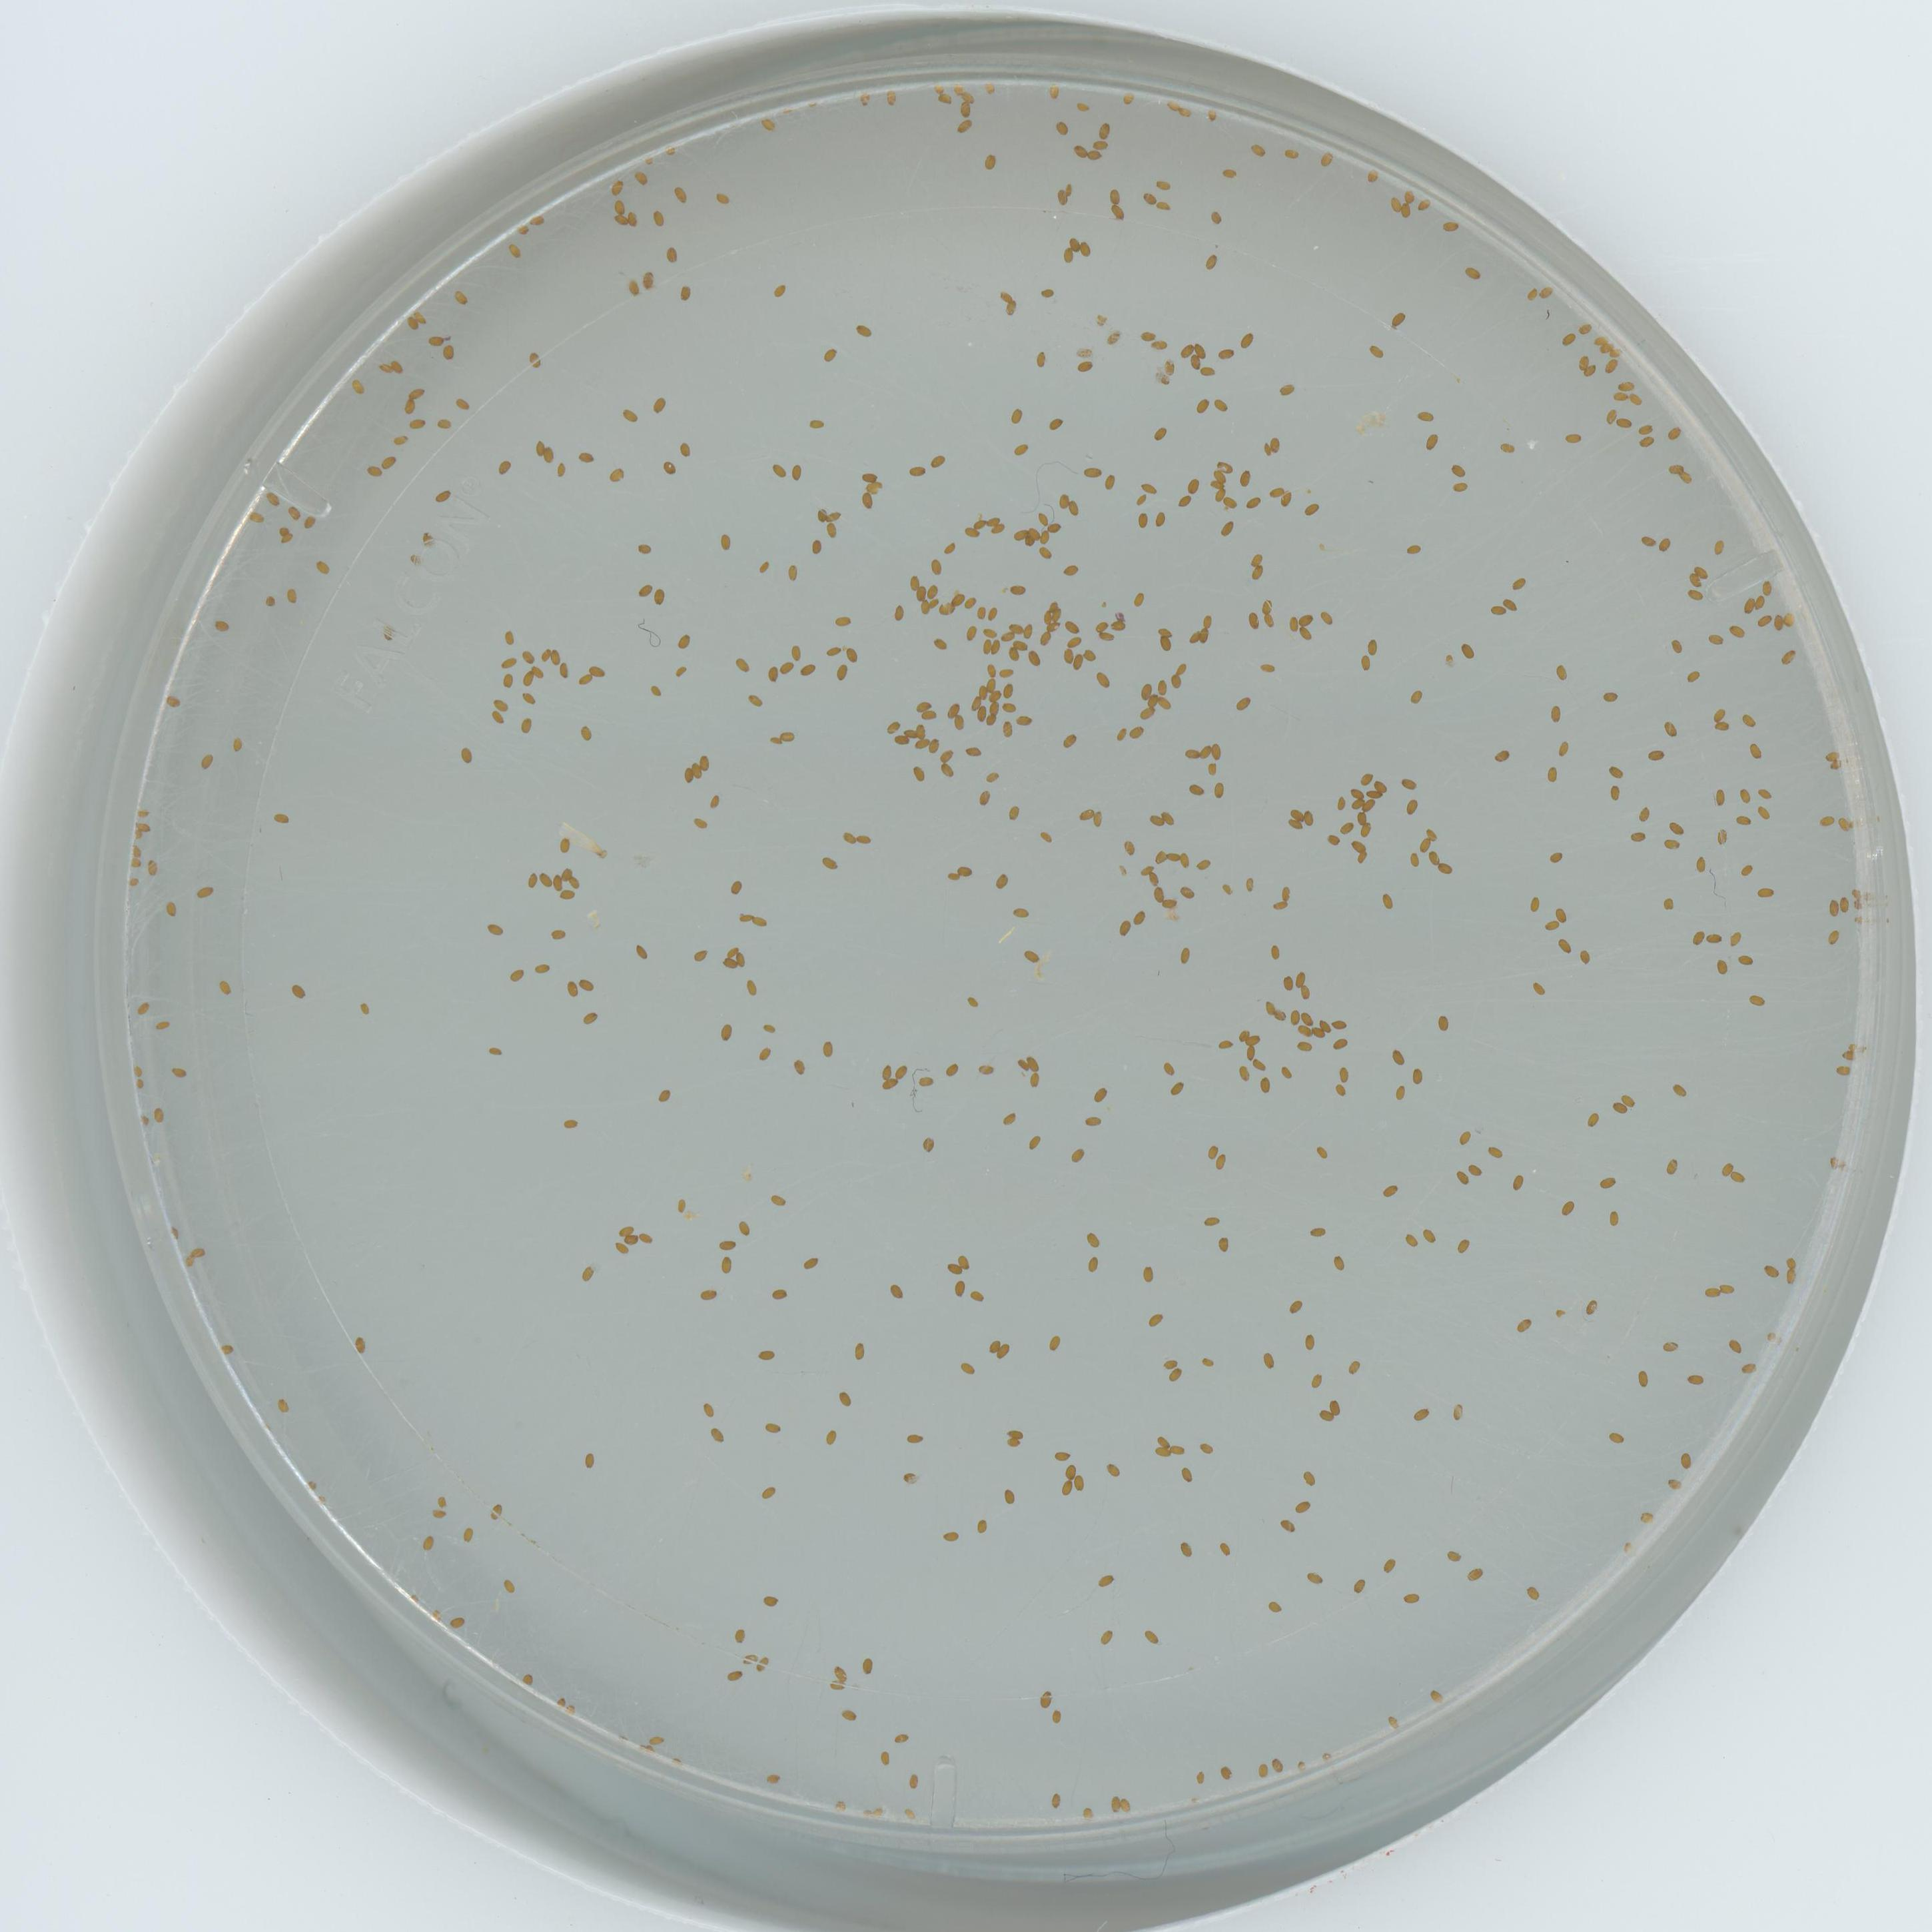seed: (626, 278, 642, 303), (925, 557, 945, 577), (419, 529, 437, 550), (1729, 621, 1748, 639), (1546, 706, 1566, 724), (955, 1359, 975, 1376), (755, 115, 777, 131), (154, 1017, 175, 1033), (911, 764, 929, 782), (285, 504, 303, 522), (856, 320, 874, 338), (663, 244, 681, 262), (851, 1341, 869, 1359), (918, 1070, 936, 1088), (858, 1656, 876, 1674), (1422, 432, 1440, 449), (1237, 331, 1254, 349), (1348, 837, 1366, 855), (1217, 520, 1235, 538), (1663, 720, 1681, 738), (1557, 936, 1575, 954), (1152, 510, 1169, 527), (1184, 476, 1201, 494), (1403, 798, 1421, 816), (1065, 633, 1083, 651), (1780, 648, 1798, 665), (1408, 1065, 1426, 1083), (1203, 1212, 1221, 1230), (1412, 1403, 1430, 1421), (1293, 1497, 1311, 1514), (1097, 1628, 1115, 1645), (1559, 1200, 1576, 1217), (1663, 1159, 1681, 1177), (1421, 1224, 1438, 1242), (1514, 1315, 1532, 1332), (1214, 1235, 1231, 1253), (1001, 1488, 1019, 1506), (1083, 1230, 1100, 1247), (1382, 1180, 1399, 1198), (1467, 1159, 1484, 1177), (633, 170, 651, 188), (651, 589, 671, 605), (1060, 617, 1079, 633), (1757, 885, 1776, 901), (1491, 748, 1511, 764), (1711, 791, 1730, 807), (1108, 617, 1127, 633), (1713, 959, 1732, 975), (1836, 814, 1852, 833), (660, 142, 679, 157), (642, 269, 655, 294), (510, 242, 524, 264), (1033, 830, 1054, 844), (163, 899, 177, 920), (577, 448, 594, 464), (844, 648, 862, 663), (499, 653, 517, 669), (520, 690, 538, 706), (648, 683, 665, 699), (501, 630, 518, 646), (929, 453, 947, 469), (771, 281, 789, 297), (835, 663, 851, 681), (458, 747, 474, 764), (823, 345, 840, 361), (718, 533, 734, 550), (518, 718, 536, 734), (915, 697, 932, 713), (577, 725, 594, 741), (518, 671, 536, 686), (927, 736, 943, 754), (823, 855, 839, 872), (609, 467, 626, 483), (492, 695, 510, 711), (729, 879, 747, 895), (826, 642, 844, 658), (800, 662, 817, 678), (487, 920, 504, 936), (787, 464, 805, 479), (198, 754, 216, 770), (520, 648, 538, 663), (407, 416, 425, 432), (747, 692, 764, 708), (809, 538, 826, 554), (734, 658, 752, 674), (676, 283, 694, 299), (441, 345, 458, 361), (281, 587, 299, 603), (752, 913, 770, 929), (311, 559, 329, 575), (672, 188, 690, 203), (955, 119, 973, 134), (736, 1219, 754, 1235), (701, 1284, 718, 1300), (803, 1254, 821, 1270), (759, 1346, 777, 1362), (709, 1426, 725, 1444), (582, 1007, 598, 1024), (793, 1056, 809, 1074), (839, 1389, 855, 1407), (764, 1419, 782, 1435), (821, 1042, 839, 1058), (832, 1665, 849, 1681), (878, 1750, 893, 1767), (718, 1024, 734, 1042), (1012, 904, 1030, 920), (1502, 596, 1520, 612), (1302, 499, 1320, 515), (1668, 821, 1686, 837), (1083, 464, 1100, 479), (1527, 895, 1543, 913), (1378, 893, 1396, 909), (1177, 885, 1194, 901), (1755, 807, 1773, 823), (1389, 310, 1407, 326), (1449, 462, 1467, 478), (1555, 741, 1573, 757), (1237, 469, 1253, 487), (1637, 807, 1654, 823), (1104, 186, 1122, 202), (1437, 862, 1454, 878), (998, 665, 1016, 681), (1014, 713, 1031, 729), (1060, 732, 1077, 748), (1024, 651, 1042, 667), (1706, 929, 1723, 945), (1138, 327, 1155, 343), (1401, 775, 1417, 793), (1244, 612, 1260, 630), (1739, 863, 1757, 879), (1010, 580, 1026, 598), (1012, 441, 1030, 456), (1203, 253, 1219, 271), (1244, 494, 1261, 510), (1046, 414, 1063, 430), (1058, 248, 1074, 265), (1663, 837, 1681, 853), (1560, 331, 1578, 347), (1458, 642, 1476, 658), (1737, 950, 1755, 966), (1240, 878, 1258, 893), (1318, 609, 1334, 626), (1543, 766, 1560, 782), (1175, 494, 1192, 510), (1543, 918, 1560, 934), (1629, 828, 1647, 844), (1606, 786, 1624, 801), (1155, 623, 1173, 639), (1277, 492, 1295, 508), (1093, 671, 1111, 686), (1407, 853, 1422, 870), (1023, 950, 1040, 966), (1093, 124, 1111, 140), (1210, 782, 1228, 798), (1564, 428, 1582, 444), (1077, 357, 1093, 375), (1265, 483, 1283, 499), (1031, 350, 1049, 366), (1154, 177, 1171, 193), (1553, 663, 1571, 679), (1603, 359, 1621, 375), (1035, 632, 1053, 648), (1198, 628, 1214, 646), (1727, 931, 1744, 947), (1826, 929, 1842, 947), (1108, 203, 1125, 219), (1606, 1208, 1624, 1224), (1453, 1169, 1470, 1185), (1509, 1175, 1527, 1191), (1764, 1261, 1782, 1277), (1688, 1371, 1706, 1387), (1141, 1628, 1159, 1644), (1486, 1143, 1504, 1159), (1392, 1083, 1410, 1099), (1139, 1265, 1157, 1281), (1435, 1014, 1453, 1030), (1256, 1076, 1272, 1093), (1403, 1231, 1421, 1247), (1313, 1141, 1330, 1157), (1454, 1237, 1472, 1253), (1085, 1113, 1102, 1129), (1177, 1467, 1194, 1483), (1286, 1297, 1304, 1313), (1727, 1336, 1743, 1353), (1168, 1079, 1185, 1095), (996, 1341, 1014, 1357), (1028, 1134, 1044, 1152), (1449, 1403, 1467, 1419), (1389, 1047, 1407, 1063), (1672, 1079, 1688, 1097), (1599, 1173, 1617, 1189), (1035, 1691, 1053, 1707), (1621, 1090, 1638, 1106), (977, 1062, 994, 1077), (1104, 329, 1122, 345), (349, 380, 366, 396), (715, 189, 731, 207), (133, 1001, 150, 1017), (764, 1769, 782, 1785), (1667, 1476, 1684, 1491), (741, 1651, 759, 1667), (410, 550, 426, 568), (426, 333, 444, 349), (823, 524, 842, 538), (391, 356, 405, 375), (212, 619, 232, 633), (975, 702, 987, 724), (865, 483, 886, 495), (888, 718, 904, 734), (909, 462, 925, 478), (764, 667, 780, 683), (789, 646, 805, 662), (637, 582, 653, 598), (662, 458, 678, 474), (860, 492, 876, 508), (676, 633, 692, 649), (589, 662, 605, 678), (892, 605, 908, 621), (858, 830, 874, 846), (771, 462, 787, 478), (380, 453, 396, 469), (623, 407, 639, 423), (435, 416, 451, 432), (786, 564, 801, 580), (941, 540, 957, 556), (610, 196, 626, 212), (497, 458, 513, 474), (653, 396, 669, 412), (950, 715, 966, 731), (810, 414, 826, 430), (556, 837, 571, 853), (651, 211, 667, 226), (678, 441, 694, 456), (524, 872, 540, 888), (906, 573, 922, 589), (488, 711, 504, 727), (694, 947, 709, 962), (557, 663, 573, 679), (501, 674, 517, 690), (755, 559, 771, 575), (550, 925, 566, 941), (610, 179, 626, 195), (272, 810, 288, 826), (301, 513, 317, 529), (913, 586, 929, 602), (559, 867, 575, 883), (143, 860, 159, 876), (196, 885, 212, 901), (740, 909, 755, 925), (755, 1046, 771, 1062), (718, 1256, 734, 1272), (908, 1430, 924, 1445), (352, 1336, 368, 1352), (771, 1189, 787, 1205), (888, 1284, 904, 1300), (170, 1063, 186, 1079), (950, 1279, 966, 1295), (771, 1284, 787, 1300), (727, 1667, 743, 1683), (943, 1527, 959, 1543), (460, 1527, 476, 1543), (920, 1136, 936, 1152), (763, 1592, 778, 1608), (563, 1115, 579, 1131), (745, 980, 761, 996), (501, 1578, 517, 1594), (902, 1468, 918, 1484), (1649, 747, 1665, 763), (1368, 341, 1384, 357), (984, 770, 1000, 786), (1070, 143, 1086, 159), (1638, 421, 1654, 437), (1741, 713, 1757, 729), (1686, 669, 1702, 685), (1005, 803, 1021, 819), (1546, 849, 1562, 865), (1511, 575, 1527, 591), (1617, 414, 1633, 430), (1177, 948, 1192, 964), (1748, 743, 1764, 759), (1152, 425, 1168, 441), (1576, 948, 1592, 964), (1219, 345, 1235, 361), (993, 874, 1008, 890), (1083, 648, 1099, 663), (1194, 856, 1210, 872), (1364, 639, 1380, 655), (1233, 695, 1249, 711), (1693, 856, 1709, 872), (1053, 119, 1069, 134), (1277, 380, 1293, 396), (1299, 610, 1315, 626), (1077, 807, 1093, 823), (1212, 396, 1228, 412), (1247, 550, 1263, 566), (1008, 407, 1024, 423), (1417, 407, 1433, 423), (977, 789, 993, 805), (1690, 929, 1706, 945), (1037, 545, 1053, 561), (1115, 920, 1131, 936), (1131, 909, 1146, 925), (1357, 655, 1373, 671), (1424, 851, 1440, 867), (982, 154, 998, 170), (1670, 639, 1686, 655), (1608, 764, 1624, 780), (1077, 241, 1093, 257), (1297, 626, 1313, 642), (1249, 566, 1265, 582), (1150, 888, 1166, 904), (1092, 617, 1108, 633), (1166, 674, 1182, 690), (1100, 474, 1116, 490), (1753, 594, 1769, 610), (1000, 722, 1016, 738), (1001, 683, 1017, 699), (1198, 612, 1214, 628), (1739, 598, 1755, 614), (1603, 688, 1619, 704), (1453, 478, 1468, 494), (1350, 786, 1366, 801), (1065, 501, 1081, 517), (1033, 510, 1049, 525), (1714, 830, 1730, 846), (1058, 648, 1074, 663), (1261, 612, 1277, 628), (1161, 810, 1177, 826), (1414, 196, 1430, 212), (1668, 458, 1684, 474), (1667, 425, 1683, 441), (970, 605, 985, 621), (1065, 235, 1081, 251), (1221, 165, 1237, 180), (1053, 1447, 1069, 1463), (1279, 1516, 1295, 1532), (1161, 1062, 1177, 1077), (1309, 1223, 1325, 1238), (1306, 1569, 1322, 1585), (1044, 1334, 1060, 1350), (1382, 1557, 1398, 1573), (970, 1286, 985, 1302), (1403, 1589, 1419, 1605), (1260, 1352, 1276, 1368), (1663, 1336, 1679, 1352), (1530, 980, 1546, 996), (1300, 1470, 1316, 1486), (1583, 1299, 1599, 1315), (1279, 975, 1295, 991), (1070, 1476, 1086, 1491), (1612, 1099, 1628, 1115), (1525, 1583, 1541, 1599), (1635, 1369, 1651, 1385), (975, 1518, 991, 1534), (1198, 1440, 1214, 1456), (1330, 1254, 1346, 1270), (1215, 1541, 1231, 1557), (1679, 1453, 1695, 1468), (1085, 1256, 1100, 1272), (1269, 1757, 1284, 1773), (1242, 1044, 1258, 1060), (1146, 1313, 1162, 1329), (1093, 1088, 1109, 1104), (1706, 1283, 1721, 1299), (1069, 1146, 1085, 1162), (1730, 1168, 1746, 1184), (1295, 1037, 1311, 1053), (1047, 1707, 1063, 1723), (1300, 1334, 1316, 1350), (1608, 1428, 1624, 1444), (1026, 1072, 1042, 1088), (1203, 1141, 1219, 1157), (1237, 1067, 1253, 1083), (1467, 1566, 1483, 1582), (1332, 1081, 1348, 1097), (1261, 998, 1277, 1014), (1212, 1154, 1228, 1169), (1001, 1109, 1017, 1125), (1099, 1571, 1115, 1587), (1014, 1056, 1030, 1072), (1284, 147, 1300, 163), (1047, 83, 1063, 99), (1120, 92, 1136, 108), (936, 92, 952, 108), (959, 103, 975, 119), (1783, 1254, 1799, 1270), (1155, 372, 1171, 387), (1081, 1805, 1097, 1821), (902, 1806, 918, 1822), (872, 1805, 888, 1821), (833, 1799, 849, 1815), (1095, 310, 1111, 326), (755, 1656, 771, 1672), (724, 943, 740, 959), (274, 1398, 290, 1414), (126, 872, 142, 888), (364, 464, 382, 478), (708, 793, 722, 810), (780, 727, 798, 741), (531, 665, 548, 679), (400, 398, 418, 412), (835, 614, 853, 628), (540, 870, 554, 888), (612, 212, 630, 226), (389, 432, 407, 446), (699, 1403, 717, 1417), (718, 1237, 736, 1251), (639, 1230, 656, 1244), (828, 1681, 846, 1695), (1221, 497, 1238, 511), (1003, 648, 1021, 662), (1711, 708, 1729, 722), (1707, 632, 1725, 646), (1757, 787, 1775, 801), (1198, 364, 1215, 379), (1139, 479, 1157, 494), (1338, 821, 1355, 835), (1136, 511, 1150, 529), (1192, 398, 1210, 412), (1405, 541, 1422, 556), (1736, 814, 1753, 828), (1638, 435, 1656, 449), (1129, 593, 1146, 607), (1553, 906, 1568, 924), (1194, 341, 1208, 359), (1656, 536, 1674, 550), (1270, 899, 1288, 913), (1286, 819, 1304, 833), (1711, 540, 1729, 554), (1152, 849, 1166, 867), (1442, 219, 1460, 234), (1686, 571, 1704, 586), (1499, 439, 1516, 453), (1138, 863, 1155, 878), (1463, 264, 1481, 278), (1350, 1578, 1368, 1592), (1177, 1543, 1194, 1557), (1330, 1035, 1348, 1049), (1345, 1359, 1362, 1373), (1748, 993, 1766, 1007), (1307, 1373, 1325, 1387), (1215, 1037, 1233, 1051), (1445, 1548, 1463, 1562), (1334, 1065, 1352, 1079), (1217, 462, 1235, 476), (959, 90, 977, 104), (529, 352, 543, 370), (517, 223, 531, 241), (416, 308, 430, 326), (453, 290, 467, 308), (1783, 610, 1798, 628), (449, 1615, 467, 1629), (1384, 1714, 1401, 1729), (1077, 345, 1095, 359), (166, 1224, 180, 1242), (862, 471, 881, 483), (681, 764, 694, 784), (692, 761, 704, 780), (626, 209, 639, 228), (1210, 741, 1223, 761), (435, 488, 451, 502), (531, 441, 545, 456), (455, 395, 469, 410), (945, 704, 961, 718), (694, 816, 709, 830), (637, 541, 653, 556), (559, 890, 575, 904), (554, 462, 568, 478), (780, 662, 796, 676), (577, 674, 593, 688), (842, 830, 858, 844), (672, 663, 688, 678), (939, 748, 955, 763), (939, 603, 955, 617), (918, 600, 932, 616), (550, 648, 564, 663), (932, 637, 948, 651), (568, 876, 584, 890), (816, 506, 830, 522), (633, 945, 649, 959), (699, 755, 713, 771), (550, 878, 564, 893), (538, 646, 552, 662), (950, 593, 966, 607), (290, 984, 306, 998), (617, 1223, 633, 1237), (895, 1065, 909, 1081), (579, 977, 594, 991), (564, 982, 579, 998), (842, 1707, 858, 1721), (672, 1198, 688, 1212), (582, 1453, 596, 1468), (763, 1021, 778, 1035), (580, 1267, 596, 1281), (761, 1484, 777, 1499), (216, 980, 232, 994), (824, 1431, 840, 1445), (488, 1504, 502, 1520), (734, 1628, 748, 1644), (893, 1732, 909, 1746), (430, 1507, 446, 1522), (957, 1254, 971, 1270), (883, 1076, 899, 1090), (419, 1536, 435, 1550), (1640, 533, 1656, 547), (1619, 377, 1635, 391), (1661, 897, 1677, 911), (1182, 747, 1198, 761), (1576, 320, 1592, 334), (1490, 605, 1506, 619), (1129, 725, 1145, 740), (982, 662, 998, 676), (1097, 630, 1113, 644), (1759, 580, 1775, 594), (1757, 612, 1773, 626), (1012, 527, 1028, 541), (1141, 191, 1157, 205), (1063, 563, 1079, 577), (1039, 285, 1054, 299), (982, 625, 998, 639), (1187, 782, 1203, 796), (1157, 639, 1173, 653), (966, 745, 982, 759), (1021, 623, 1035, 639), (1688, 587, 1704, 602), (1014, 637, 1028, 653), (1325, 833, 1341, 847), (1302, 810, 1316, 826), (1053, 189, 1067, 205), (1373, 778, 1389, 793), (1146, 814, 1162, 828), (1267, 945, 1283, 959), (1408, 690, 1424, 704), (1612, 389, 1628, 403), (1208, 209, 1223, 225), (1737, 787, 1752, 803), (1120, 840, 1136, 855), (1113, 727, 1129, 741), (1150, 336, 1166, 350), (1131, 494, 1146, 508), (1284, 616, 1299, 632), (1277, 886, 1293, 901), (1714, 720, 1730, 734), (1161, 895, 1177, 909), (1203, 763, 1219, 777), (987, 607, 1001, 623), (1090, 812, 1104, 828), (1353, 853, 1369, 867), (1171, 662, 1187, 676), (1198, 743, 1212, 759), (1260, 660, 1276, 674), (998, 628, 1014, 642), (1695, 564, 1711, 579), (1138, 708, 1154, 722), (1819, 814, 1835, 828), (1157, 695, 1171, 711), (1249, 142, 1265, 156), (1155, 198, 1171, 212), (1008, 619, 1024, 633), (1318, 152, 1334, 166), (1187, 630, 1201, 646), (1162, 359, 1177, 375), (1277, 1063, 1293, 1077), (1104, 1463, 1120, 1477), (1217, 1766, 1233, 1780), (1058, 1479, 1072, 1495), (1191, 1769, 1207, 1783), (1720, 1162, 1736, 1177), (1162, 1355, 1178, 1369), (987, 1339, 1001, 1355), (1254, 1762, 1270, 1776), (1154, 1433, 1169, 1447), (1332, 1016, 1348, 1030), (1251, 1056, 1267, 1070), (1458, 1129, 1472, 1145), (1265, 1599, 1281, 1614), (1585, 1111, 1601, 1125), (1293, 971, 1309, 985), (1198, 1355, 1214, 1369), (1720, 1279, 1736, 1293), (1316, 1408, 1332, 1422), (1329, 1399, 1343, 1415), (1286, 1008, 1300, 1024), (1062, 1465, 1077, 1479), (1836, 1062, 1851, 1077), (1047, 1792, 1062, 1808), (1741, 1359, 1757, 1373), (1005, 303, 1019, 318), (248, 511, 264, 525), (403, 317, 419, 331), (1592, 331, 1608, 345), (134, 805, 150, 819), (354, 1001, 370, 1016), (1118, 1796, 1132, 1812), (1539, 285, 1555, 299), (858, 1805, 872, 1821), (931, 81, 947, 96), (219, 1343, 234, 1359), (191, 1244, 205, 1260), (180, 1254, 195, 1270), (893, 734, 911, 747), (957, 863, 975, 876), (1092, 138, 1109, 150), (1161, 101, 1178, 113), (407, 387, 425, 400), (1773, 614, 1785, 632), (165, 697, 182, 709), (134, 821, 152, 833), (1109, 1794, 1122, 1812), (945, 1063, 959, 1077), (510, 968, 524, 982), (947, 1261, 961, 1276), (879, 1065, 893, 1079), (488, 1044, 502, 1058), (1629, 393, 1644, 407), (1359, 771, 1373, 786), (1178, 343, 1192, 357), (1046, 520, 1060, 534), (1332, 798, 1346, 812), (1417, 839, 1431, 853), (1178, 855, 1192, 869), (1154, 679, 1168, 694), (1070, 655, 1085, 669), (1166, 849, 1180, 863), (987, 688, 1001, 702), (1260, 600, 1274, 614), (984, 678, 998, 692), (1523, 287, 1537, 301), (1247, 1030, 1261, 1044), (1300, 1012, 1315, 1026), (966, 993, 980, 1007), (1168, 1368, 1182, 1382), (1272, 1008, 1286, 1023), (1026, 1056, 1040, 1070), (379, 361, 393, 375), (127, 856, 142, 870), (1640, 1511, 1654, 1525), (904, 725, 918, 740), (430, 1610, 444, 1624), (915, 724, 927, 740), (828, 508, 844, 520), (913, 738, 929, 750), (927, 582, 939, 598), (658, 1088, 674, 1100), (534, 962, 550, 975), (614, 1242, 630, 1254), (1189, 354, 1201, 370), (1583, 364, 1599, 377), (1357, 824, 1373, 837), (982, 639, 994, 655), (1085, 149, 1100, 161), (1576, 354, 1589, 370), (1000, 702, 1016, 715), (991, 522, 1007, 534), (1389, 196, 1401, 212), (1056, 492, 1069, 508), (1286, 809, 1302, 821), (1021, 534, 1037, 547), (1210, 469, 1226, 481), (977, 683, 989, 699), (1350, 798, 1366, 810), (991, 639, 1003, 655), (1169, 1442, 1185, 1454), (1007, 1426, 1023, 1438), (1237, 1026, 1249, 1042), (1154, 1445, 1169, 1458), (1295, 1024, 1311, 1037), (952, 80, 964, 96), (1829, 759, 1845, 771), (1040, 610, 1053, 626), (1219, 885, 1235, 897), (906, 1776, 922, 1789), (1430, 1690, 1445, 1702), (1844, 1047, 1856, 1063), (1030, 525, 1042, 541), (543, 446, 554, 464), (920, 709, 938, 720), (1141, 683, 1152, 701), (1368, 168, 1378, 186), (985, 80, 996, 97), (1824, 752, 1842, 763), (1208, 479, 1226, 490), (1005, 1438, 1023, 1449), (941, 764, 955, 777), (724, 957, 738, 970), (435, 1493, 448, 1507), (1037, 531, 1051, 543), (1605, 410, 1619, 423), (985, 513, 1000, 525), (1401, 189, 1415, 202), (1399, 203, 1414, 216), (964, 596, 977, 610), (1210, 490, 1224, 502), (1355, 810, 1368, 824), (966, 525, 980, 538), (1362, 798, 1376, 810), (985, 713, 998, 727), (1145, 872, 1159, 885), (1145, 694, 1157, 708), (1426, 828, 1438, 842), (1299, 985, 1313, 998), (1318, 1019, 1330, 1033), (883, 92, 897, 104), (858, 94, 872, 106), (1260, 442, 1272, 456), (1681, 469, 1693, 483), (1049, 600, 1063, 612), (771, 732, 784, 747), (154, 1109, 166, 1123), (133, 1077, 145, 1092), (1783, 1270, 1798, 1283), (564, 1704, 579, 1716), (131, 846, 145, 858), (1270, 437, 1281, 453), (1828, 901, 1838, 916), (267, 492, 278, 508), (1598, 343, 1614, 354), (1610, 347, 1626, 357), (648, 1736, 663, 1746), (1065, 182, 1076, 198), (1366, 789, 1384, 798), (736, 952, 748, 964), (973, 517, 985, 529), (1313, 1026, 1325, 1039), (1178, 106, 1191, 119), (1001, 290, 1014, 303), (1077, 101, 1090, 113), (1053, 609, 1065, 621), (264, 596, 276, 609), (133, 1065, 145, 1077), (929, 596, 941, 609), (947, 872, 961, 883), (625, 1233, 639, 1244), (1838, 897, 1849, 911), (966, 626, 977, 640), (989, 702, 1000, 717), (970, 697, 980, 711), (536, 216, 547, 230), (554, 1697, 568, 1707), (234, 738, 242, 754), (1207, 110, 1217, 122), (280, 533, 292, 543), (1046, 623, 1060, 632), (524, 1672, 533, 1686), (133, 830, 143, 839), (276, 529, 288, 536)
